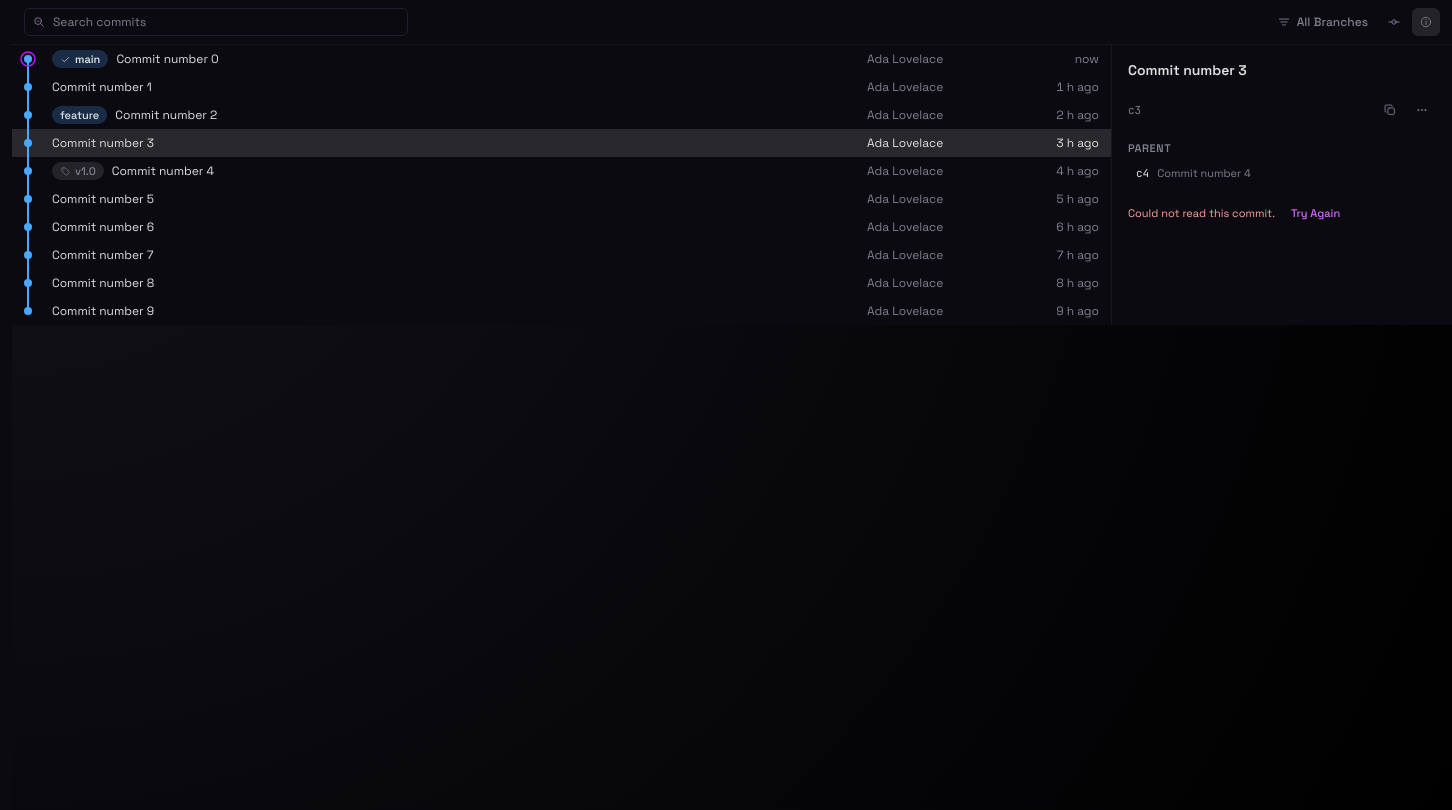
it: GitGraphView › context menus › opens the same menu from the inspector button
This screenshot has width=1452, height=810.
Click the button named "More actions".
click(1422, 110)  # box [1408,96,1436,124]
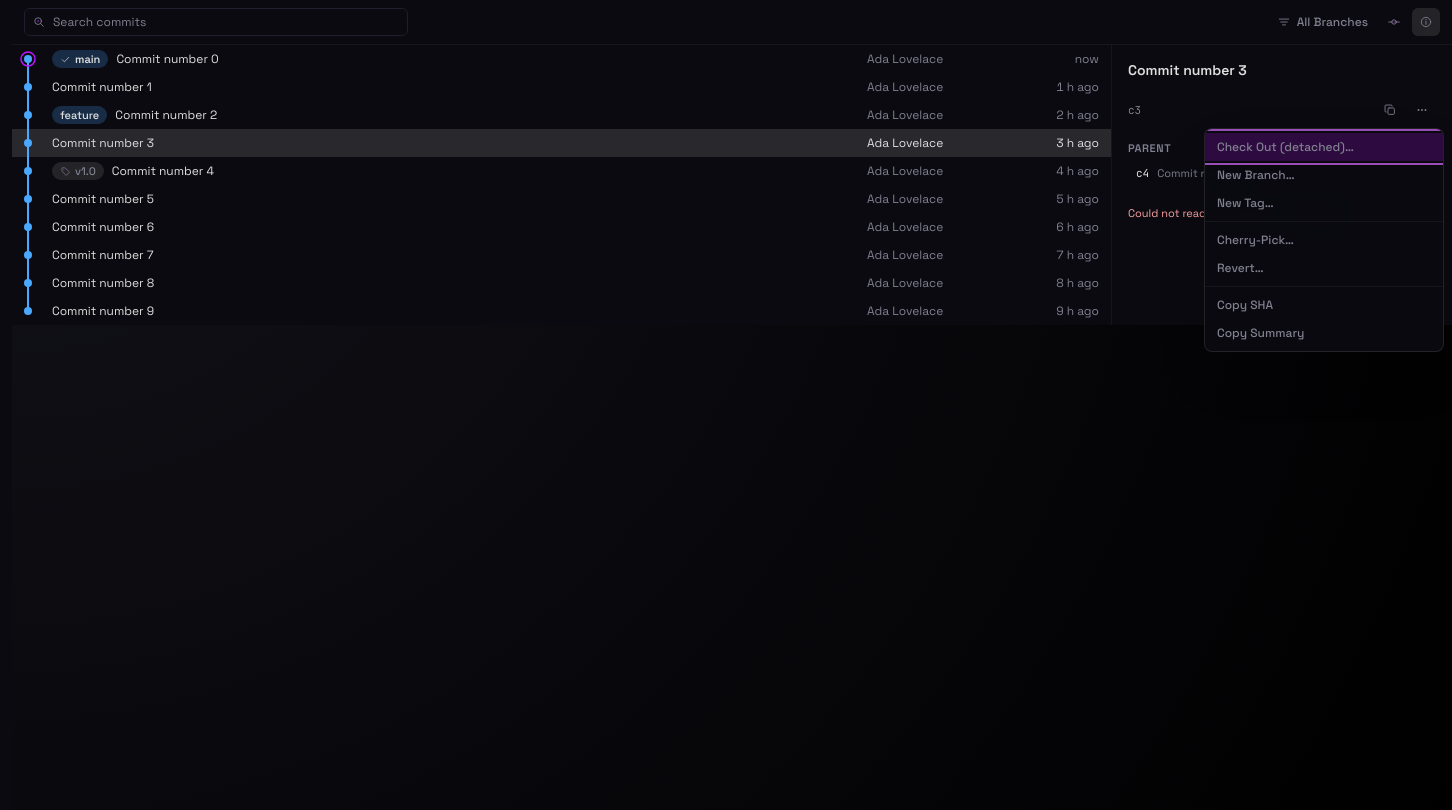
Now the menu item "Revert…" is shown, box [1205,254,1443,282]
